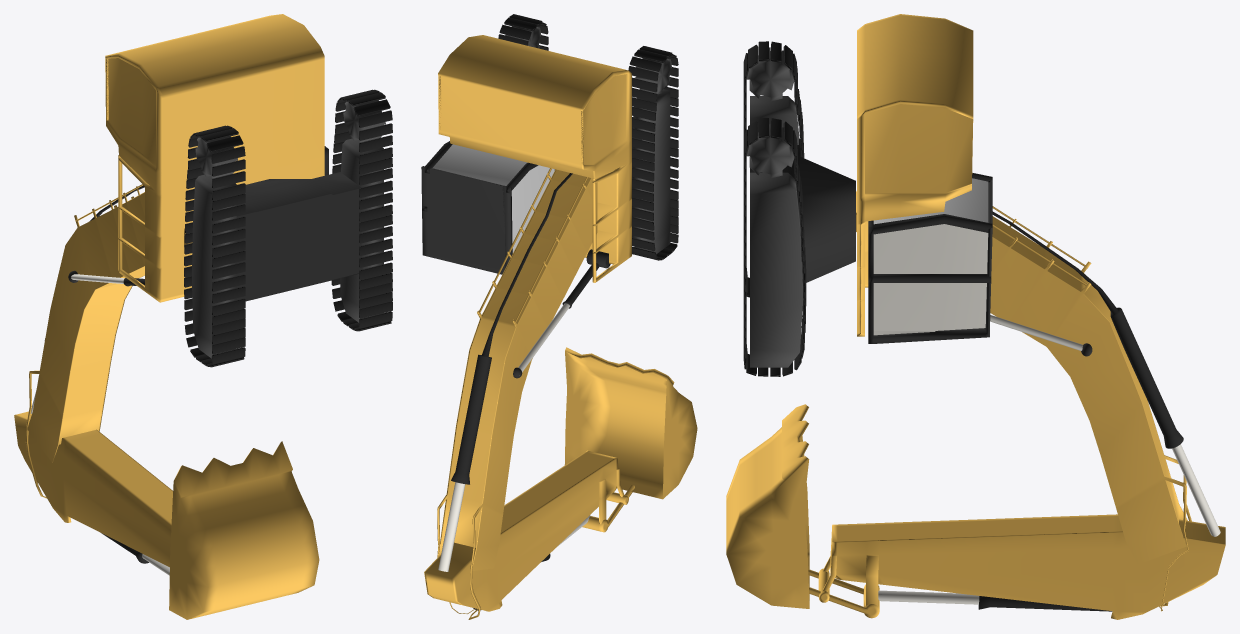
Rendered from excavator_lowpoly.fbx.
3 renders of one model, left to right at view 1: azimuth 30°, elevation 25°; view 2: azimuth 150°, elevation 25°; view 3: azimuth 270°, elevation 25°, orthographic. The views are drawn at different scales.
Visible parts, largest first — view 1: imagetostl_mesh0; view 2: imagetostl_mesh0; view 3: imagetostl_mesh0.
Boxes of the visible parts, <box> form: imagetostl_mesh0: <box>14,14,392,619</box>; imagetostl_mesh0: <box>421,14,697,619</box>; imagetostl_mesh0: <box>726,14,1225,619</box>.
Size of the model in its own units: 127 by 340 by 268.
